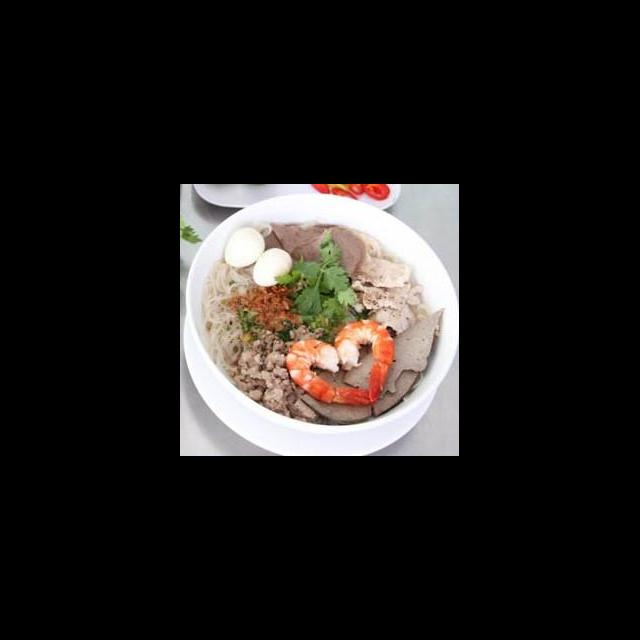banh hu tieu: (200, 255, 262, 382)
gan: (342, 305, 448, 402), (294, 339, 378, 426), (368, 355, 424, 419)
hu tieu: (182, 206, 460, 439)
thit bam: (226, 313, 328, 427)
thit heo: (352, 249, 414, 291), (348, 278, 410, 313), (364, 302, 418, 335)
tom: (282, 335, 378, 408), (332, 316, 396, 406)
trung: (222, 226, 268, 270), (250, 246, 296, 289)
